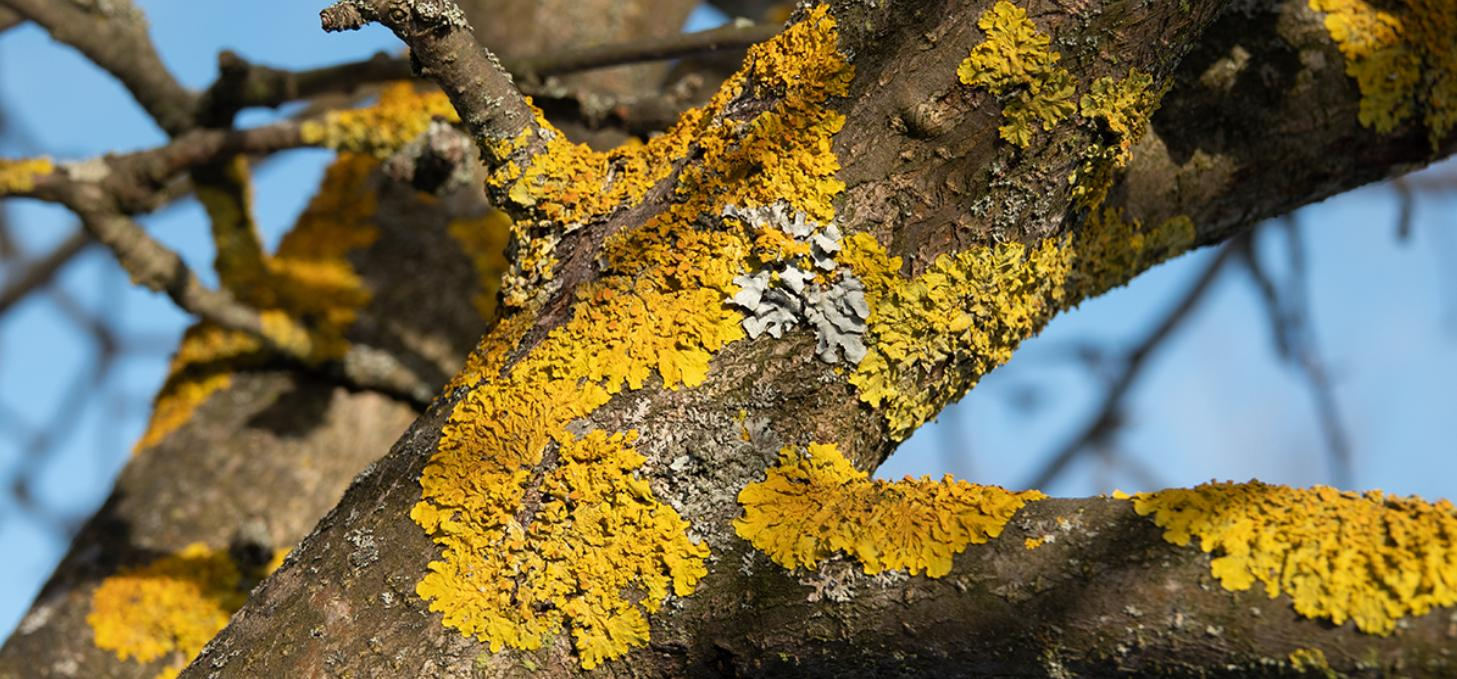lichen: (411, 7, 853, 668), (411, 173, 749, 668), (417, 431, 708, 668), (1132, 480, 1456, 635), (844, 234, 1074, 439), (734, 443, 1044, 576), (720, 200, 869, 363), (1309, 0, 1456, 149), (958, 1, 1072, 147), (489, 135, 660, 231), (1068, 207, 1194, 302), (1081, 68, 1163, 165), (780, 73, 849, 185)
